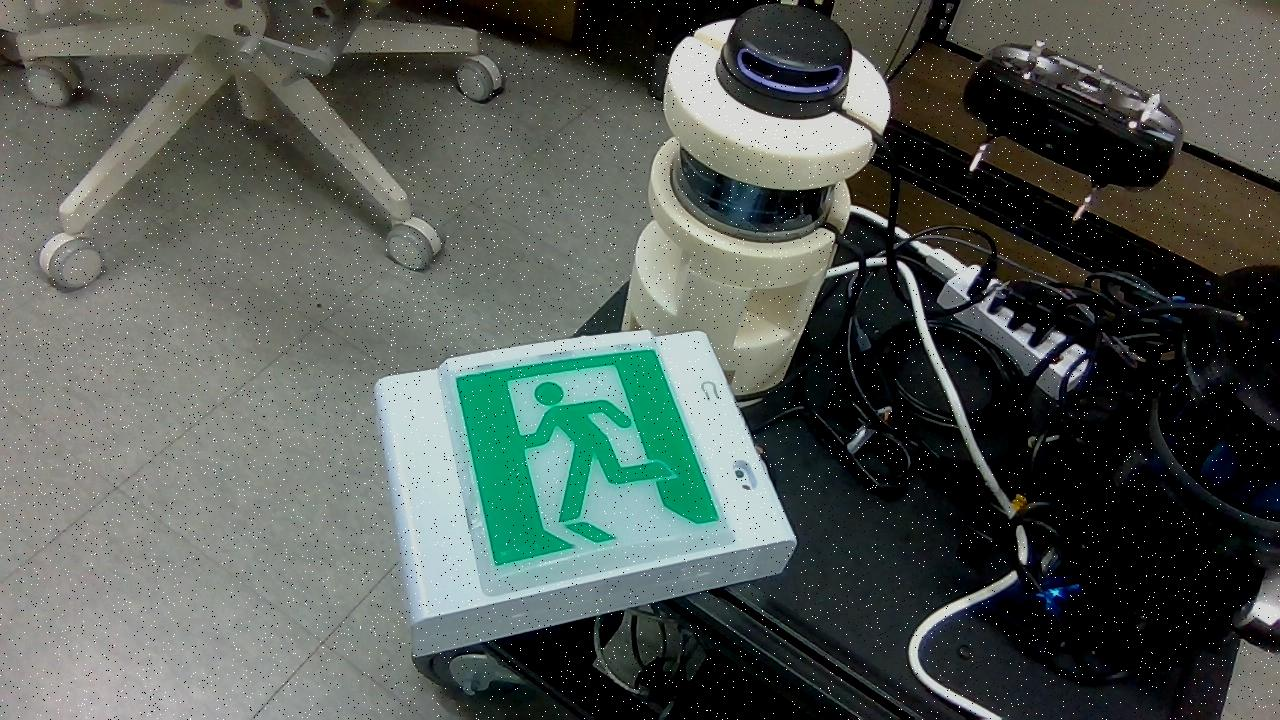emergency_exit: (374, 327, 798, 658)
